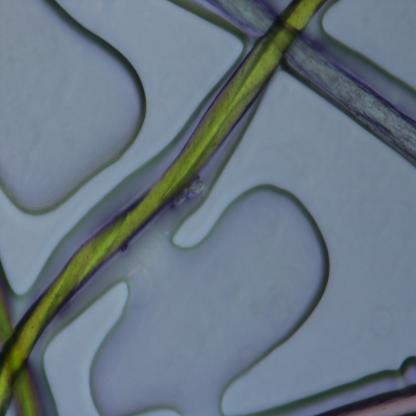Air bubble: (93, 190, 330, 408), (0, 0, 148, 216)
Microfibre: (0, 1, 322, 408), (211, 2, 416, 164), (0, 283, 44, 414), (330, 382, 416, 415)
